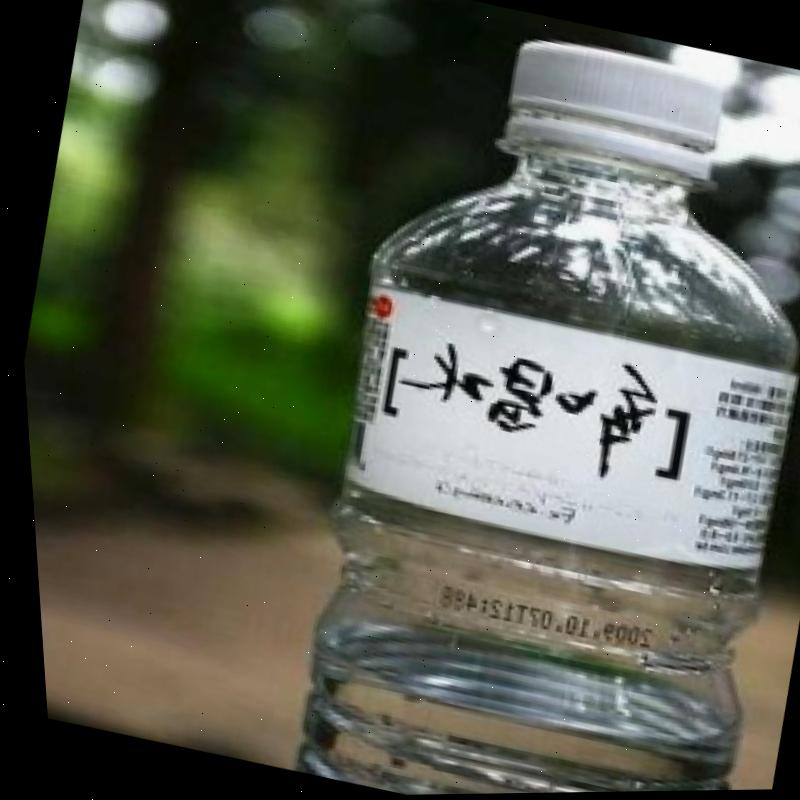botella: (226, 0, 800, 797)
